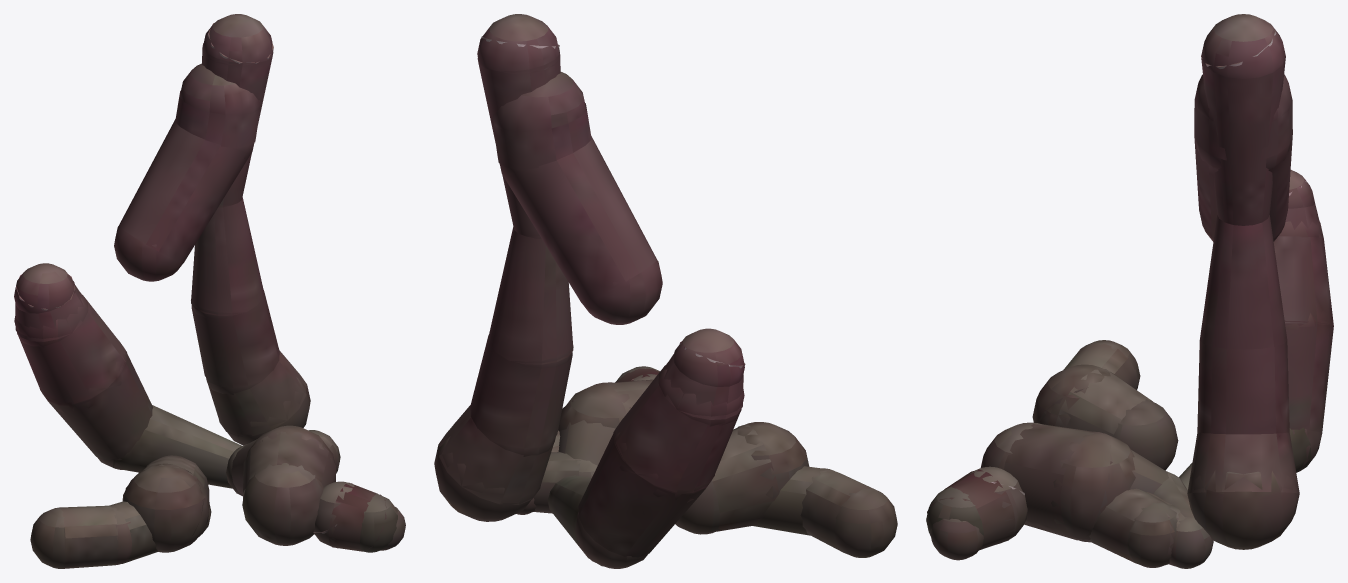
The model's file is fulgurite-small.glb.
3 renders of one model, left to right at view 1: azimuth 30°, elevation 25°; view 2: azimuth 150°, elevation 25°; view 3: azimuth 270°, elevation 25°, orthographic. The views are drawn at different scales.
Parts seen in each view (by area): view 1: body; view 2: body; view 3: body.
Boxes of the visible parts, <box> form: body: <box>14,14,405,568</box>; body: <box>434,14,897,568</box>; body: <box>926,14,1333,568</box>.
Size of the model in its own units: 1.3 by 1.68 by 1.18.
1 material, 1 textured.
